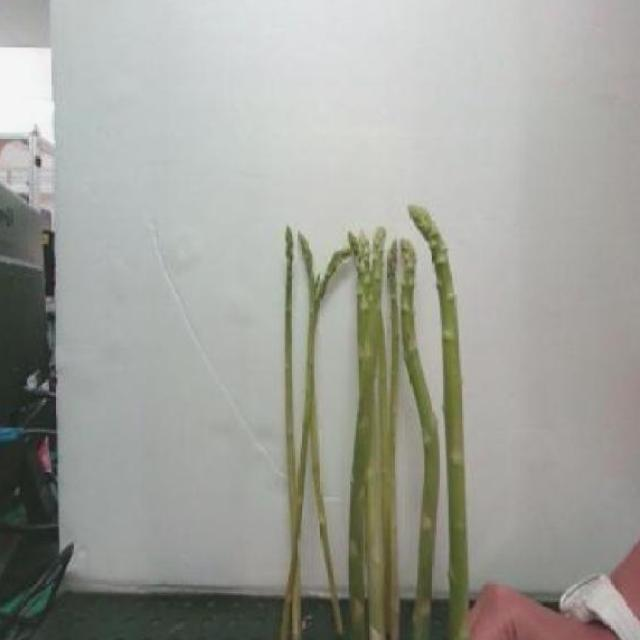aspargus: (283, 249, 355, 640), (411, 207, 468, 626), (401, 238, 444, 640)
